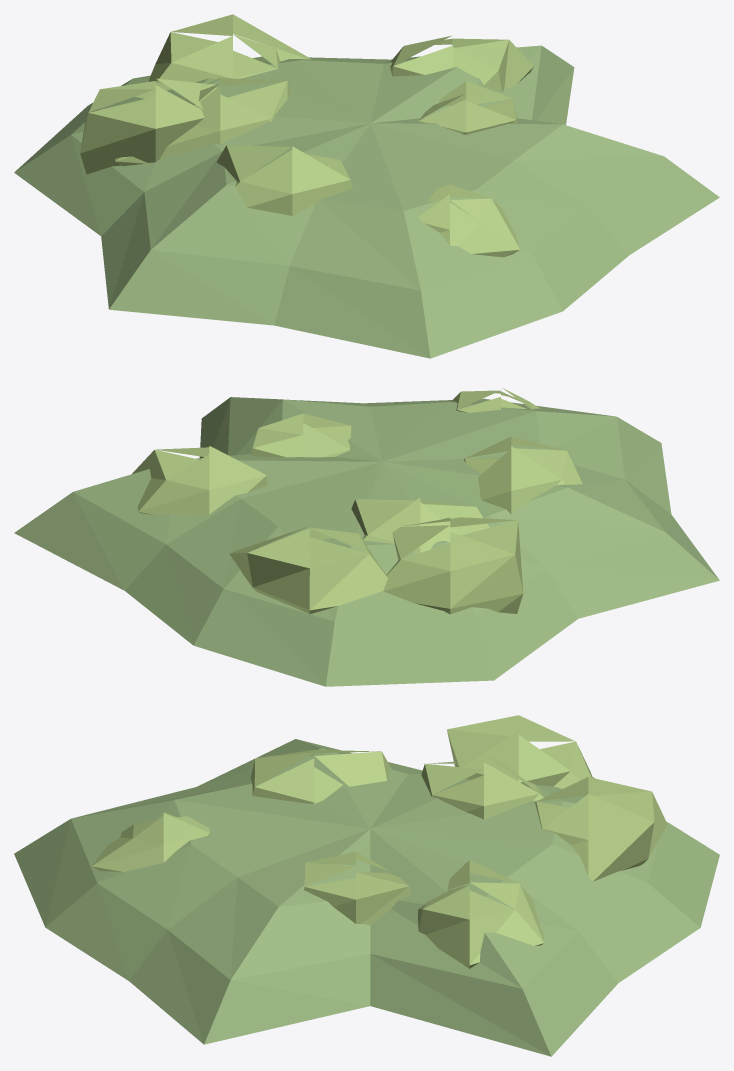
The model's file is temperate-forest-ecology-moss-mound-98189798__3859.glb.
3 views of the same model, one above another, from view 1: azimuth 30°, elevation 25°; view 2: azimuth 150°, elevation 25°; view 3: azimuth 270°, elevation 25° (orthographic). The views are drawn at different scales.
Visible parts, largest first — view 1: moss-mound; view 2: moss-mound; view 3: moss-mound.
Part boxes in pixels (box(x1,y1,x2,y2)): moss-mound: box(14, 14, 719, 358); moss-mound: box(14, 388, 719, 686); moss-mound: box(14, 715, 719, 1056).
Bounding box in the file's own units: 1.25 × 0.23 × 1.25.
